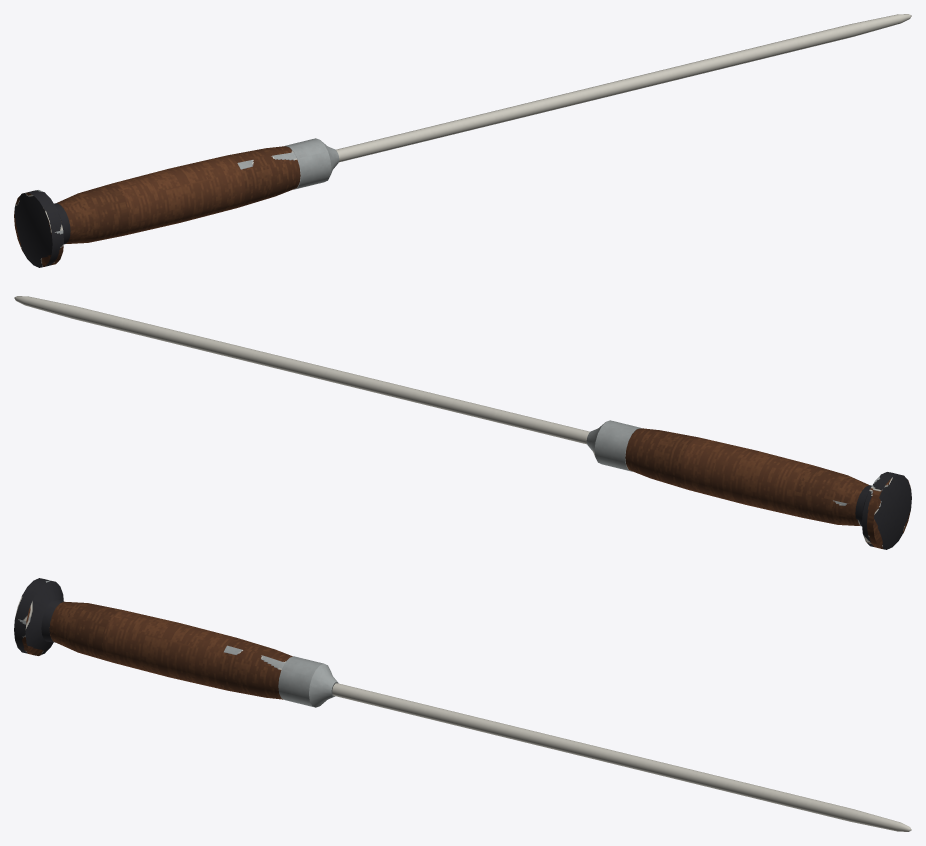
The model's file is LSB_ENV_PRP_ListeningRod_v01.fbx.
3 renders of one model, top to bottom at view 1: azimuth 30°, elevation 25°; view 2: azimuth 150°, elevation 25°; view 3: azimuth 330°, elevation 25°, orthographic.
Parts seen in each view (by area): view 1: ListeningRod; view 2: ListeningRod; view 3: ListeningRod.
Boxes of the visible parts, <box> form: ListeningRod: <box>14,14,911,267</box>; ListeningRod: <box>14,296,911,549</box>; ListeningRod: <box>14,578,911,831</box>.
Bounding box in the file's own units: 0.4615 × 0.035 × 0.035.
